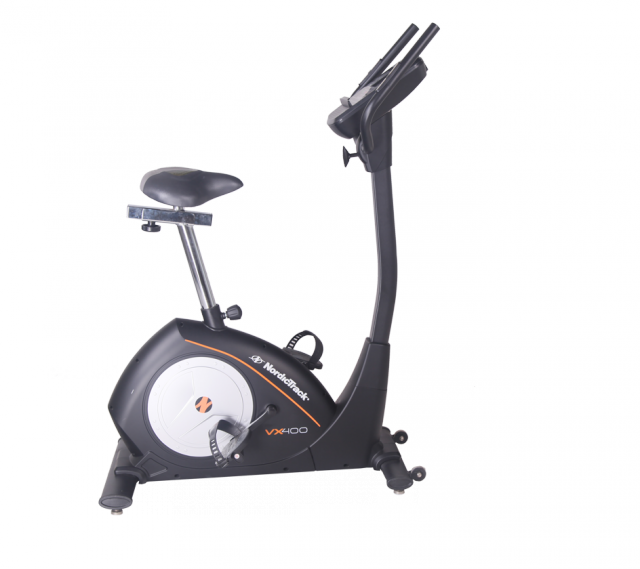gym_bike: (94, 38, 440, 511)
